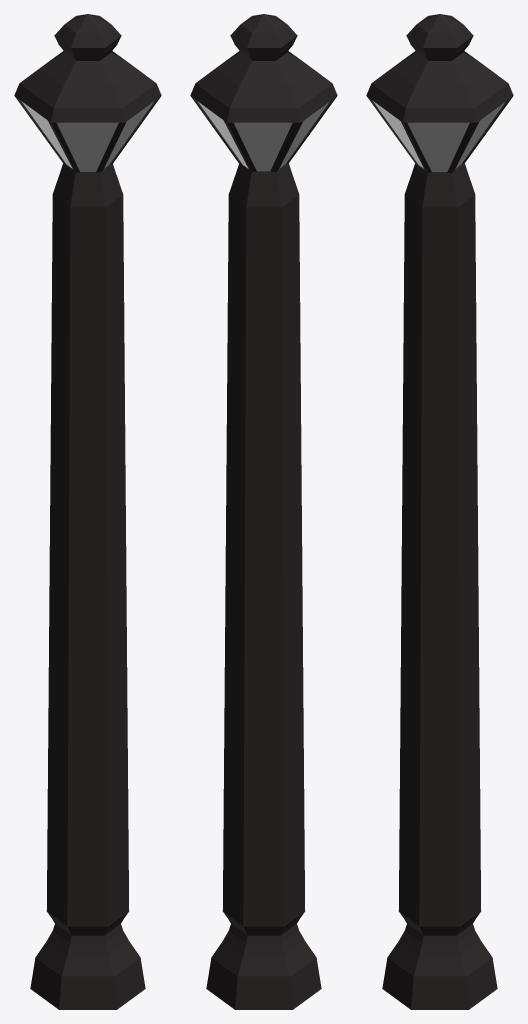
Rendered from dentyu.fbx.
3 views of the same model, side by side, from view 1: azimuth 30°, elevation 25°; view 2: azimuth 150°, elevation 25°; view 3: azimuth 270°, elevation 25° (orthographic).
Parts seen in each view (by area): view 1: Circle.002; view 2: Circle.002; view 3: Circle.002.
Boxes of the visible parts, <box> form: Circle.002: <box>14,14,161,1009</box>; Circle.002: <box>190,14,337,1009</box>; Circle.002: <box>366,14,513,1009</box>.
Bounding box in the file's own units: 312 × 2619 × 359.
